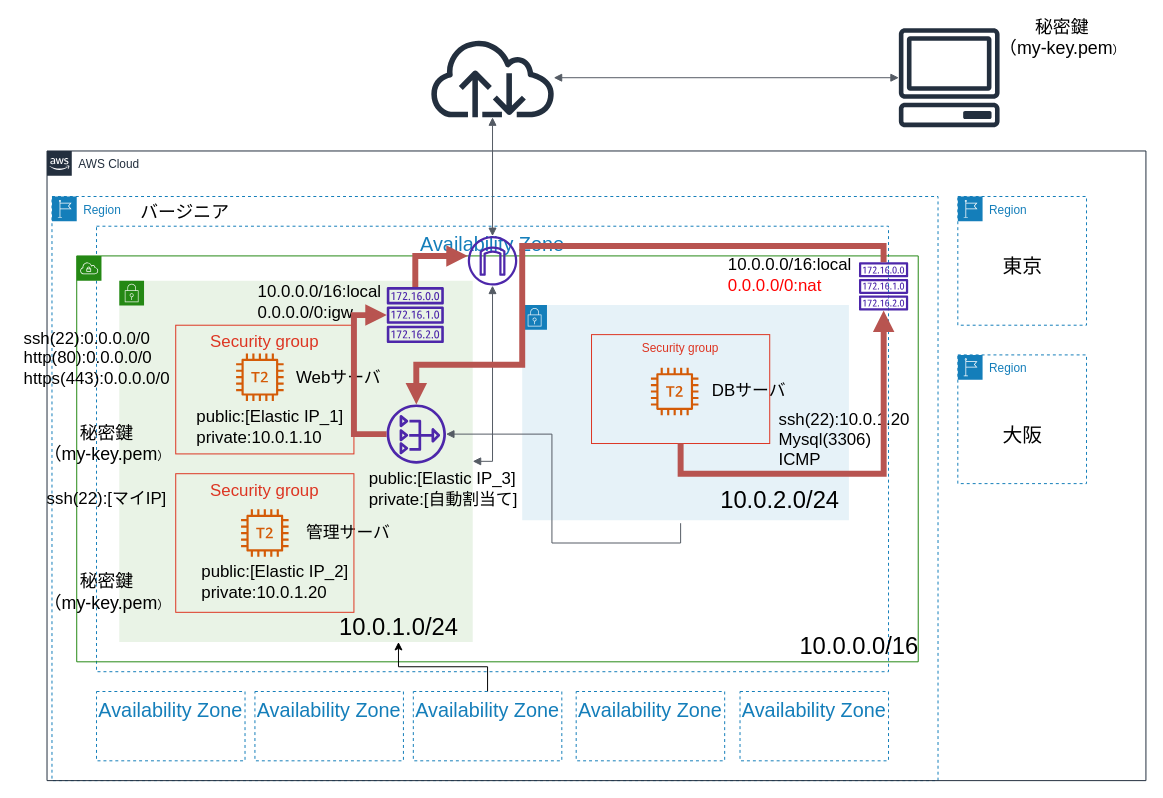
This 1163x798 diagram has some shape labels left out. Here are the shapes that lost their labels. From the top down, the box of each, then its label:
(521, 304, 849, 520): Private subnet
(118, 280, 473, 642): Public subnet
(76, 255, 918, 662): VPC
